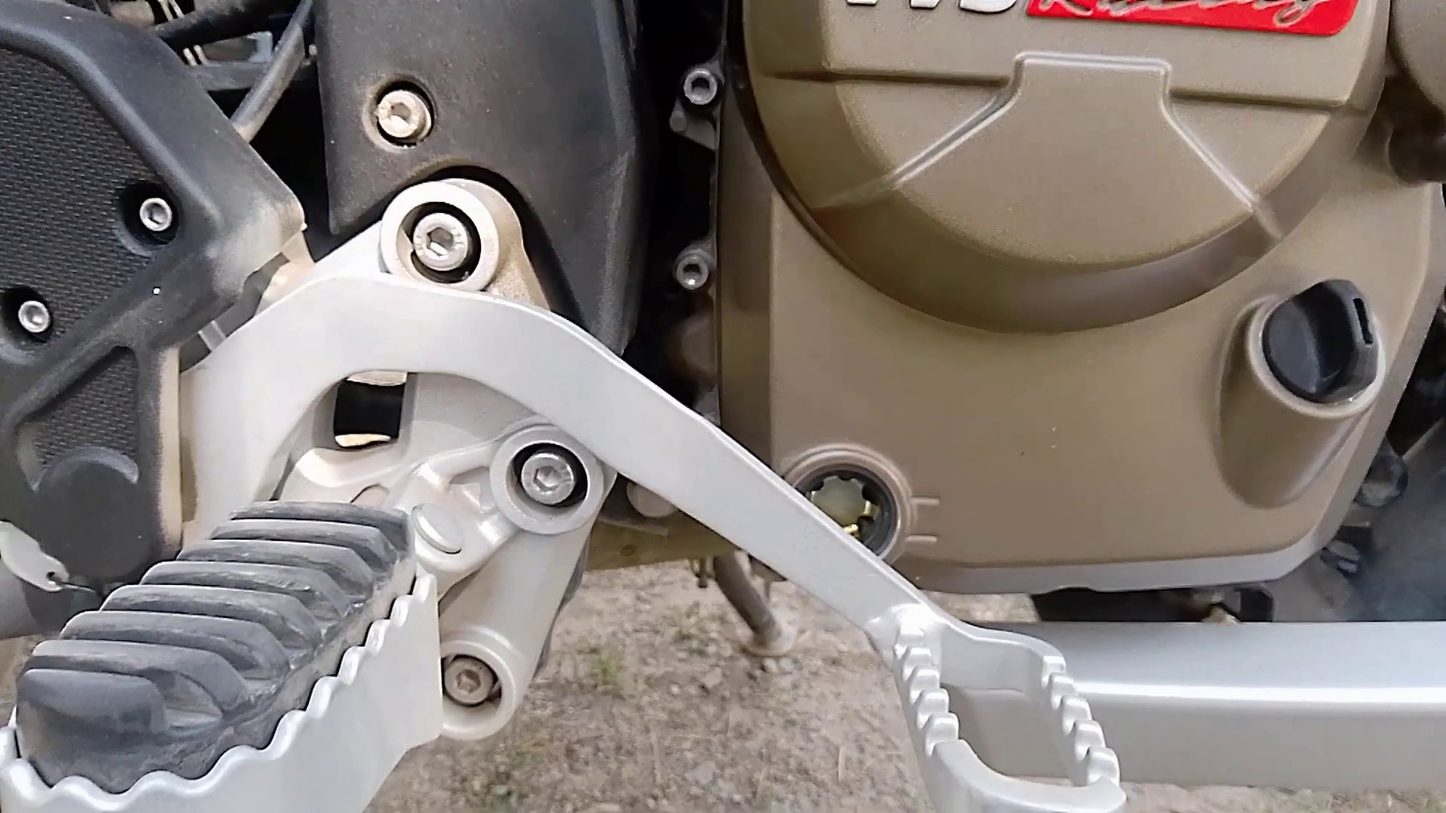engine: (700, 0, 1446, 625)
oil_cap: (1246, 263, 1408, 422)
oil_marker: (755, 433, 975, 589)
